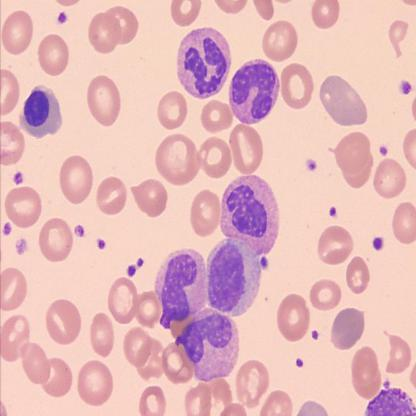NRC: (18, 83, 64, 140)
